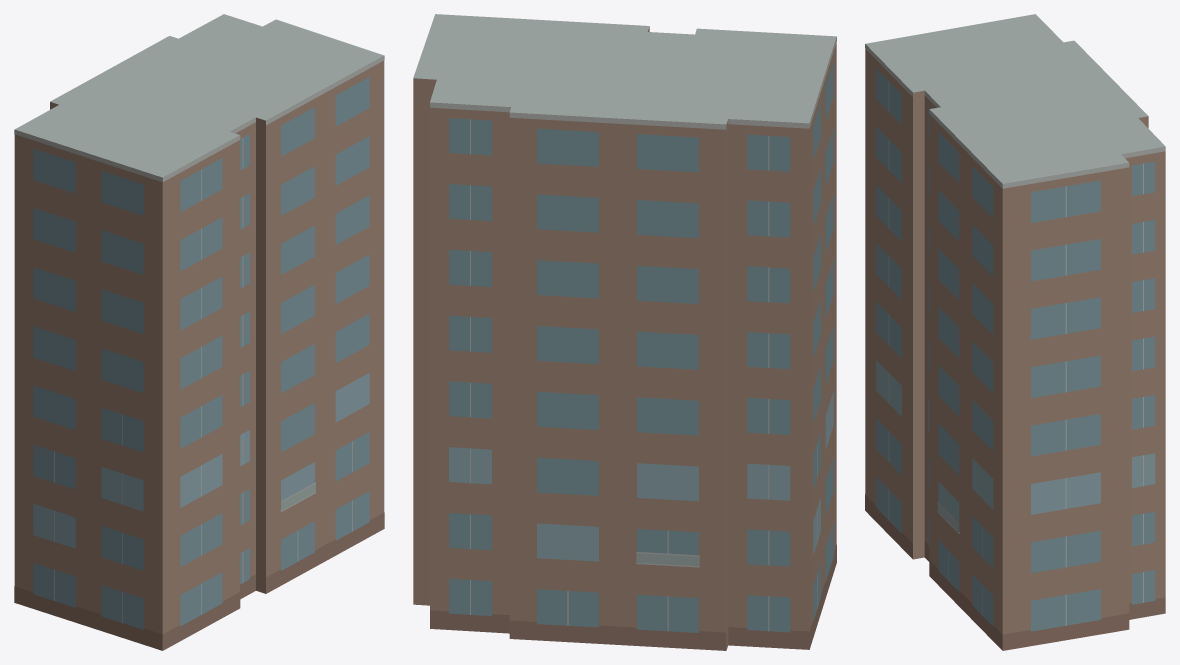
The model's file is survey-upis-33009922.glb.
3 views of the same model, side by side, from view 1: azimuth 30°, elevation 25°; view 2: azimuth 150°, elevation 25°; view 3: azimuth 270°, elevation 25° (orthographic). The views are drawn at different scales.
Visible parts, largest first — view 1: survey-upis-33009922.tmp; view 2: survey-upis-33009922.tmp; view 3: survey-upis-33009922.tmp.
Boxes of the visible parts, box(x1,y1,x2,y2) form: survey-upis-33009922.tmp: box(14, 14, 384, 650); survey-upis-33009922.tmp: box(413, 14, 836, 650); survey-upis-33009922.tmp: box(865, 14, 1165, 650).
Bounding box in the file's own units: 19.07 × 24.4 × 14.25.
